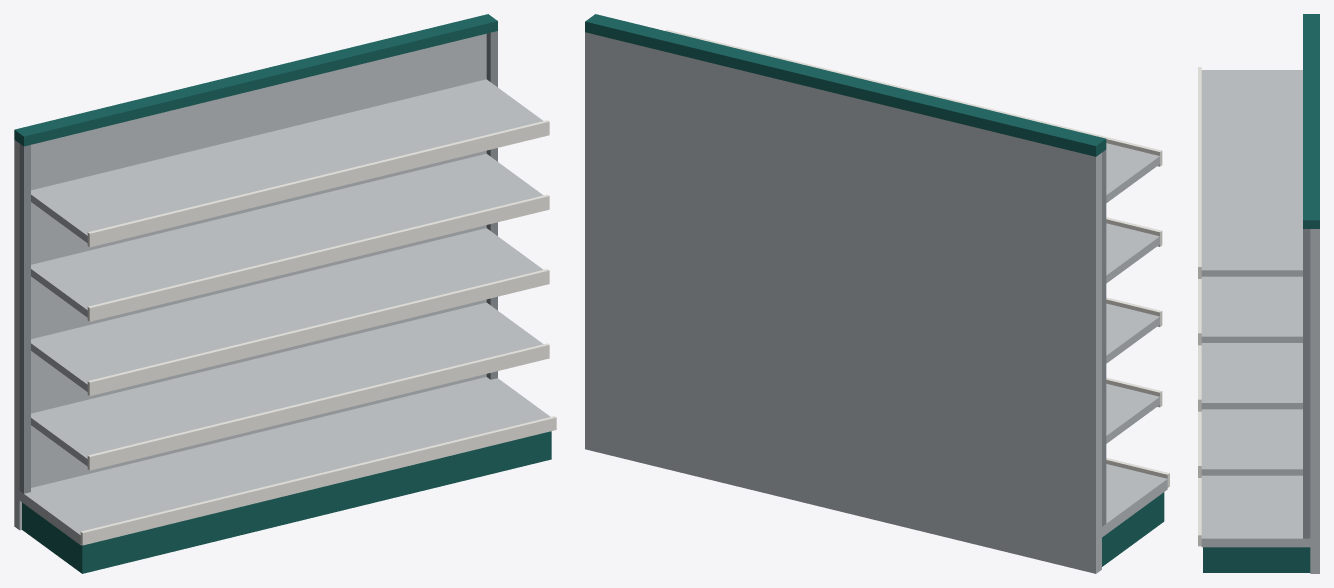
Rendered from SM_Shop_Gondola_Single_01.glb.
3 views of the same model, side by side, from view 1: azimuth 30°, elevation 25°; view 2: azimuth 150°, elevation 25°; view 3: azimuth 270°, elevation 25° (orthographic). The views are drawn at different scales.
Parts seen in each view (by area): view 1: SM_Shop_Gondola_Single_01; view 2: SM_Shop_Gondola_Single_01; view 3: SM_Shop_Gondola_Single_01.
Boxes of the visible parts, x1,y1,x2,y2 form: SM_Shop_Gondola_Single_01: [14, 14, 556, 573]; SM_Shop_Gondola_Single_01: [585, 14, 1169, 573]; SM_Shop_Gondola_Single_01: [1198, 14, 1319, 573].
Bounding box in the file's own units: 2 × 1.6 × 0.5.
Materials: 1 (1 with a texture image).
